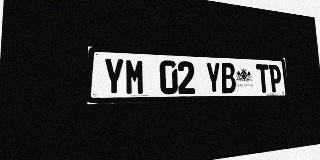0: (159, 60, 178, 94)
2: (177, 61, 195, 94)
B: (220, 63, 236, 93)
M: (125, 59, 145, 95)
P: (268, 65, 282, 92)
T: (256, 64, 270, 93)
Y: (103, 58, 124, 96), (205, 62, 222, 94)
